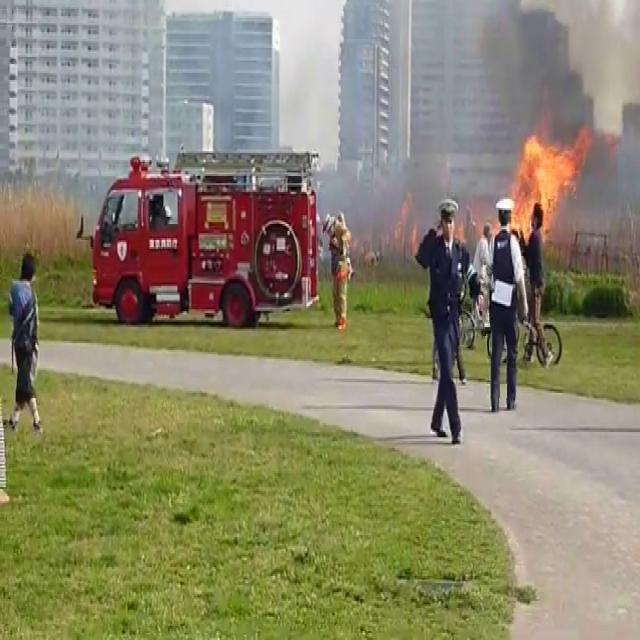Fire: (503, 129, 588, 235)
Smoke: (470, 0, 609, 203)
